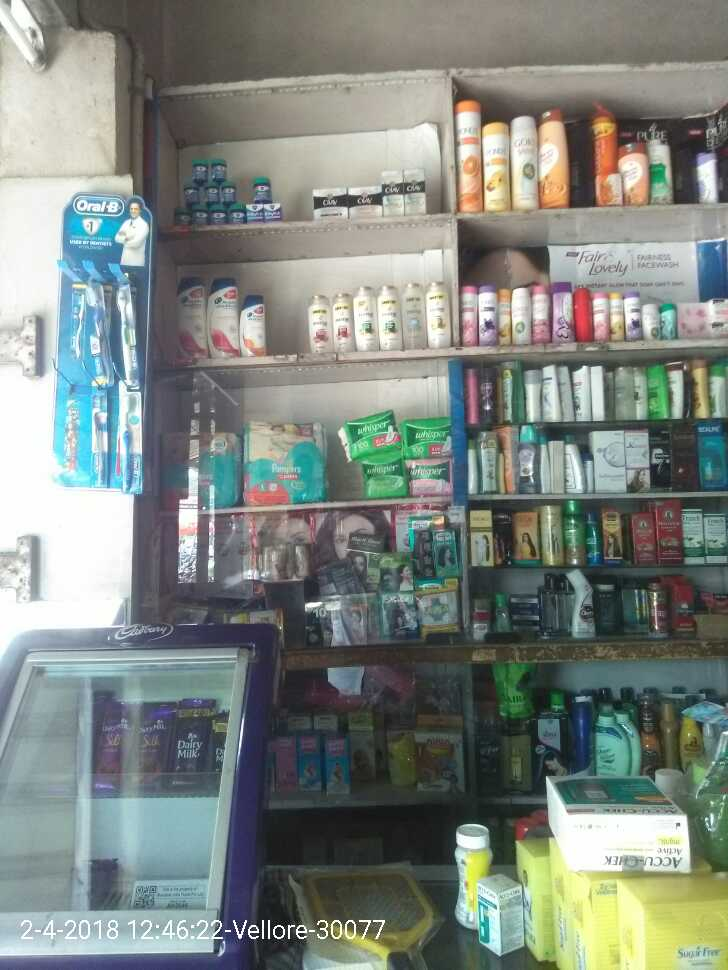oralcare: (54, 191, 149, 492)
vicks: (173, 155, 283, 220)
